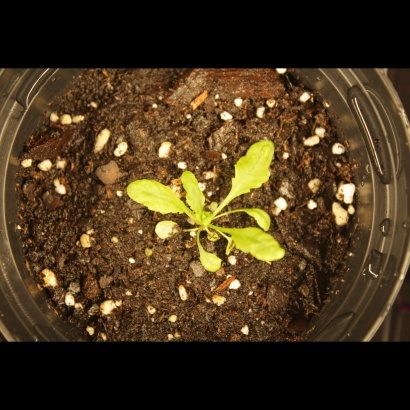leaf: (223, 134, 279, 203), (214, 228, 295, 269), (123, 178, 185, 224), (177, 166, 211, 218), (187, 247, 227, 276), (239, 209, 279, 232), (193, 207, 216, 230)
